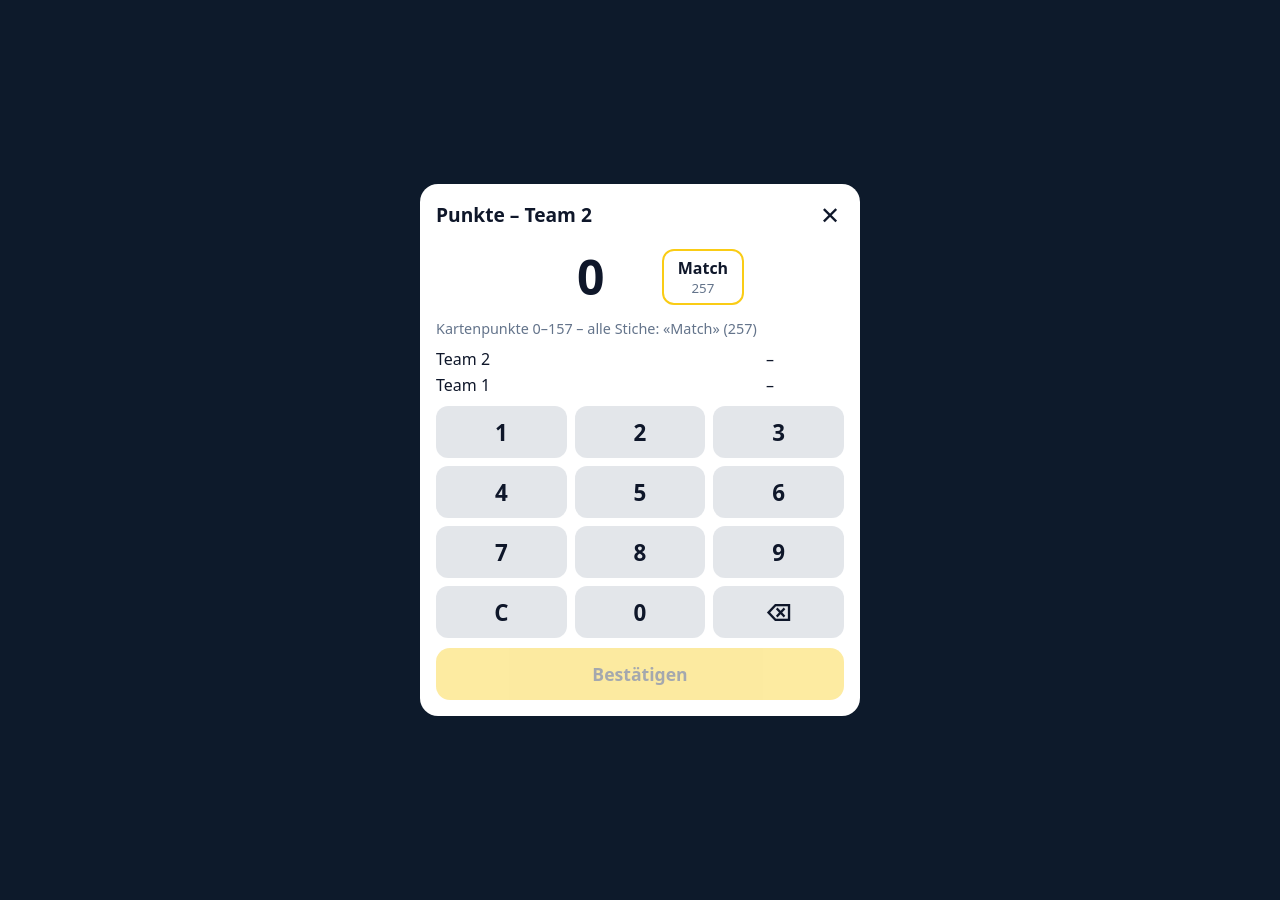
Test: PointsDialog › keeps 157 as 157 and uses the Match preset for 257
Click the button "1": (501,432) [436, 406, 567, 458]
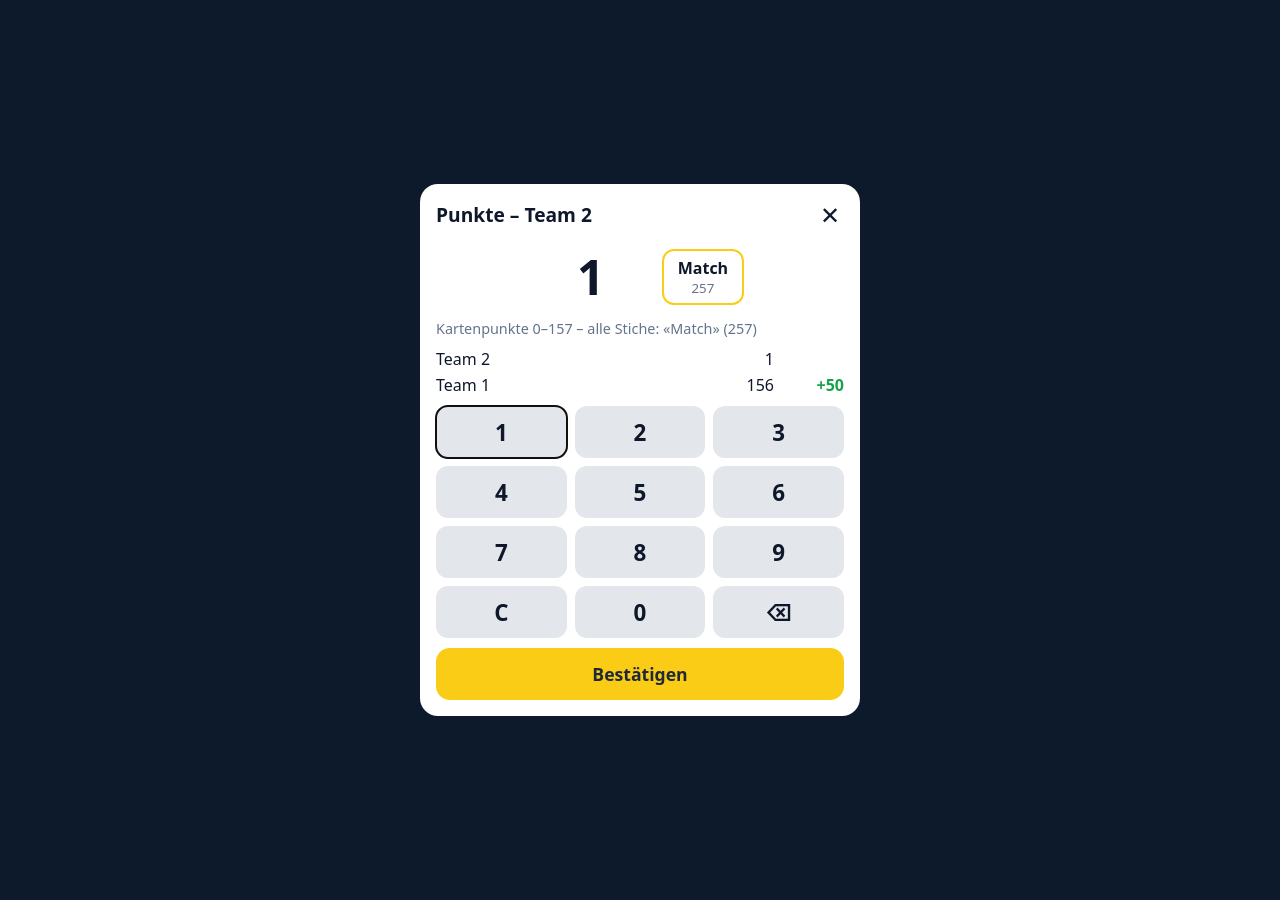
Click the button "5": (640,492) [575, 466, 705, 518]
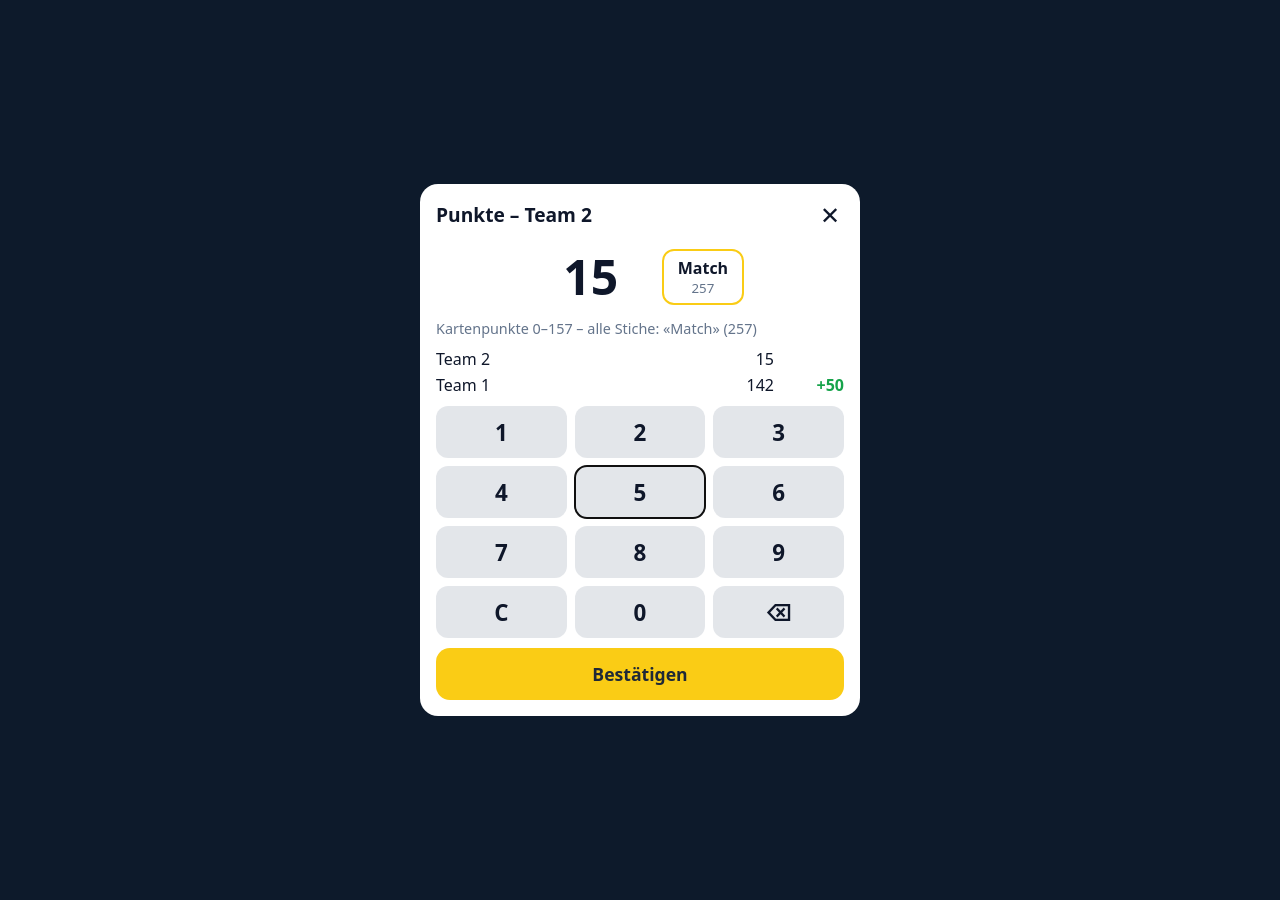
Click the button "7": (501,552) [436, 526, 567, 578]
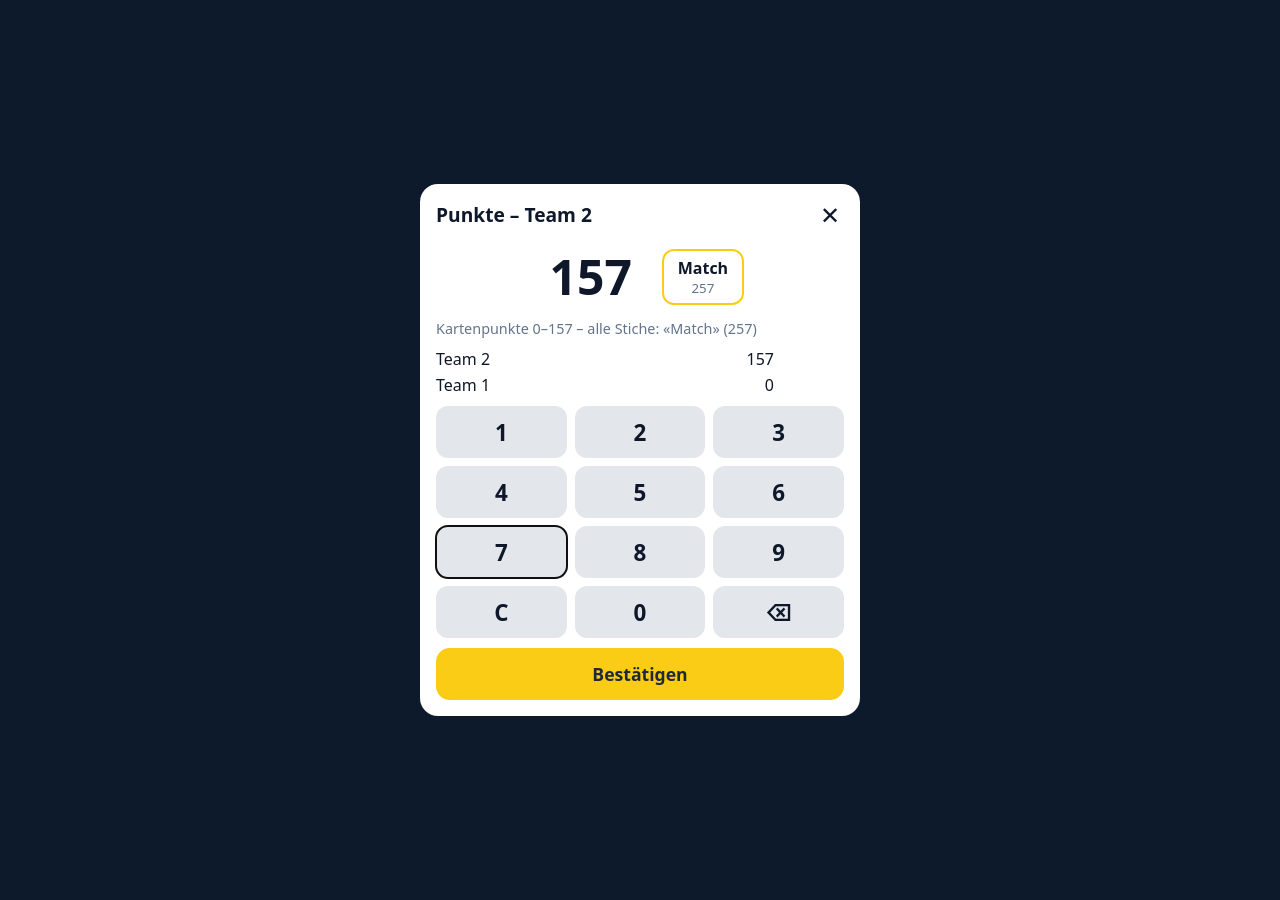
Expected: the text with test id "preview-cards-1" reads "157", [746, 348, 774, 370]
Expected: the text with test id "preview-cards-0" reads "0", [765, 374, 774, 396]
Click the button "Match 257": (703,276) [662, 248, 744, 304]
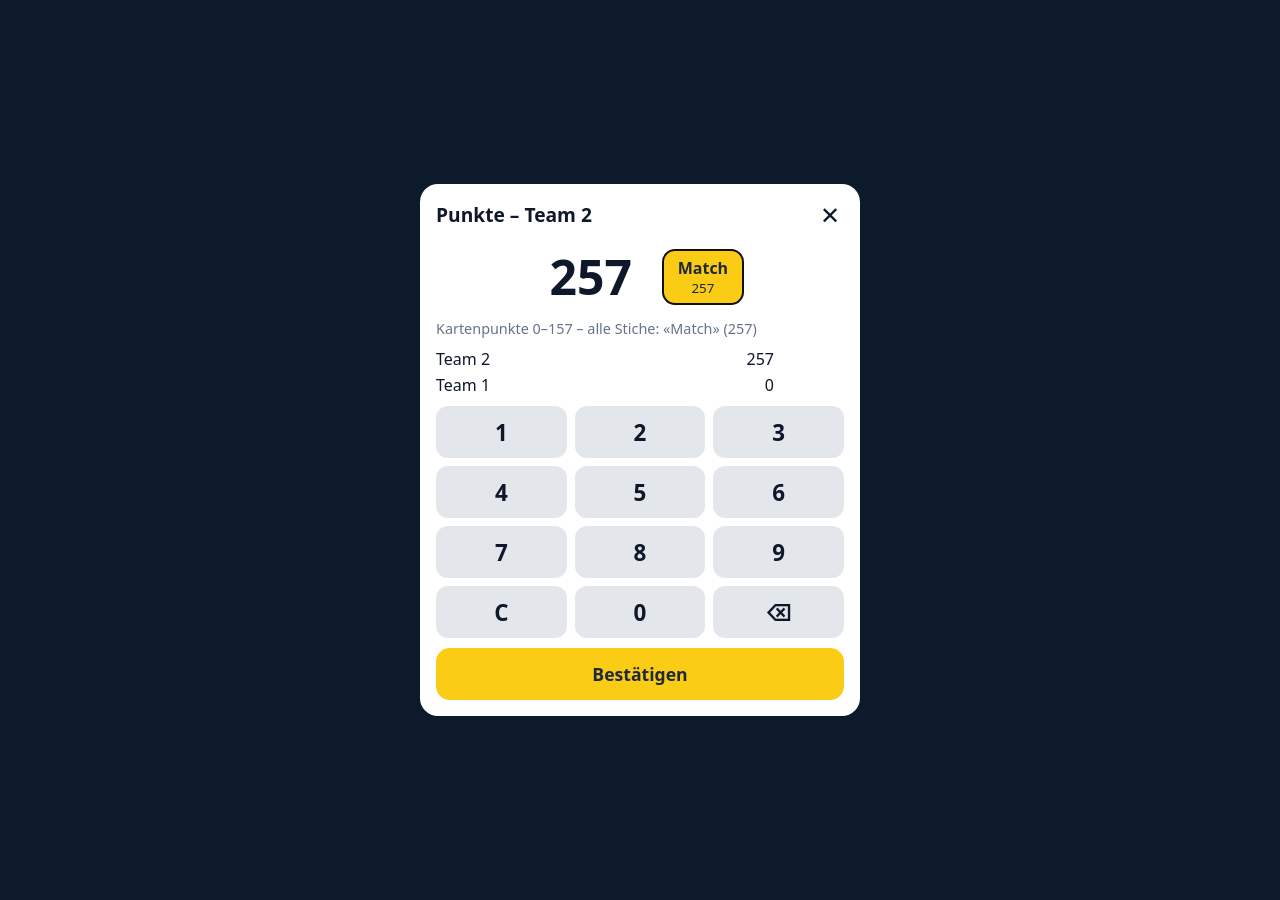
Expected: the text with test id "points-input" reads "257", [550, 244, 632, 309]
Expected: the text with test id "preview-cards-1" reads "257", [746, 348, 774, 370]
